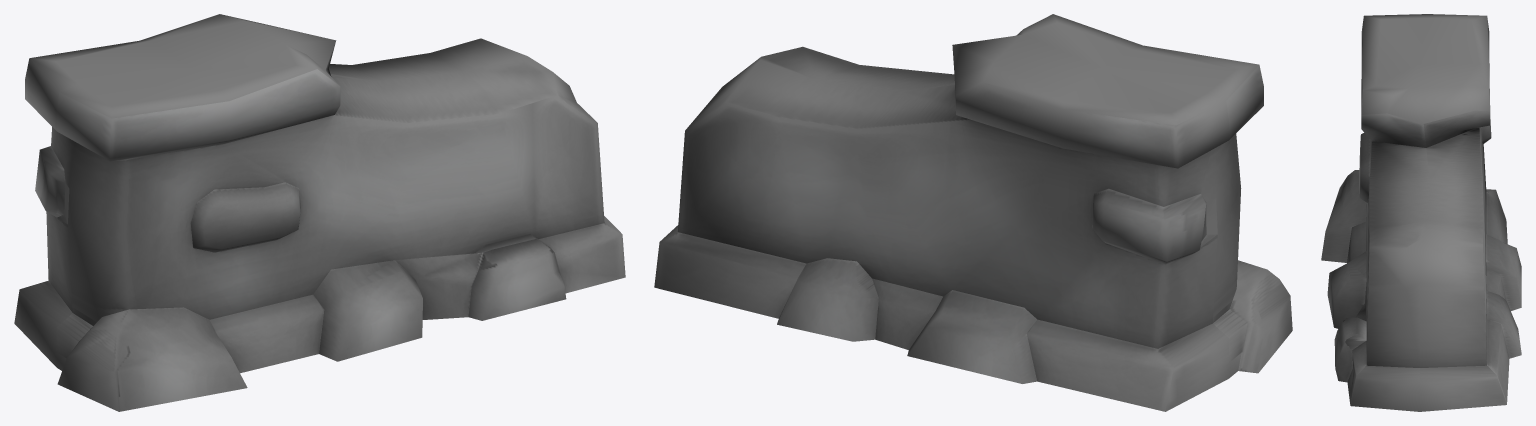
File: wall4.FBX
3 views of the same model, side by side, from view 1: azimuth 30°, elevation 25°; view 2: azimuth 150°, elevation 25°; view 3: azimuth 270°, elevation 25° (orthographic). The views are drawn at different scales.
Visible parts, largest first — view 1: wall4; view 2: wall4; view 3: wall4.
Part boxes in pixels (<box>): wall4: <box>14,14,625,411</box>; wall4: <box>654,14,1292,411</box>; wall4: <box>1321,14,1521,411</box>.
Size of the model in its own units: 657 by 326 by 281.
